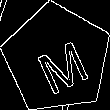M_NW: (26, 26, 88, 91)
